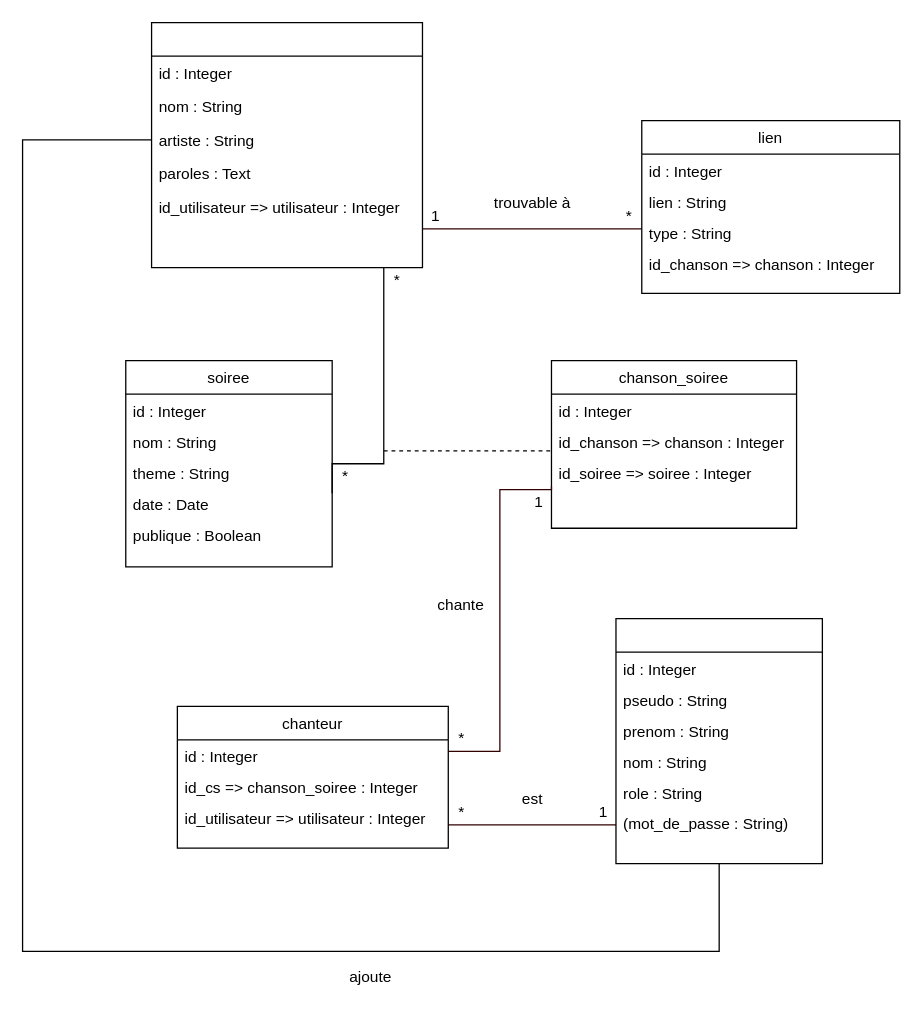
This 922x1013 diagram has some shape labels left out. The shapes that lost their labels are listed below. From the top down, each one's box as (x1, y1, x2, y2) in pixels, then its label:
(150, 21, 422, 268): chanson
(615, 617, 822, 864): utilisateur
